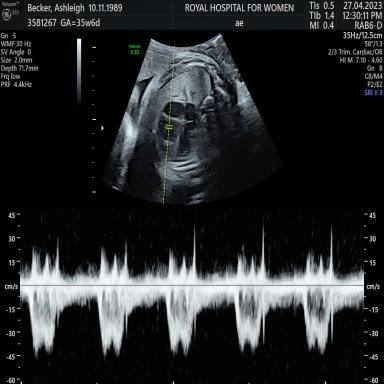Ultrasound-Waves: (25, 209, 361, 384)
